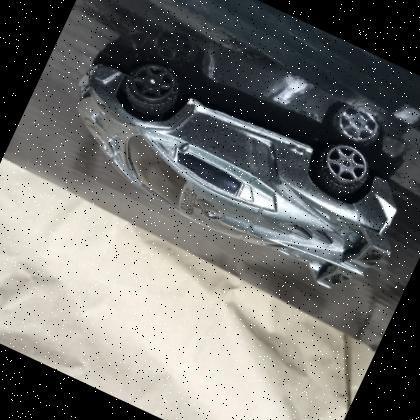Car: (77, 62, 399, 288)
